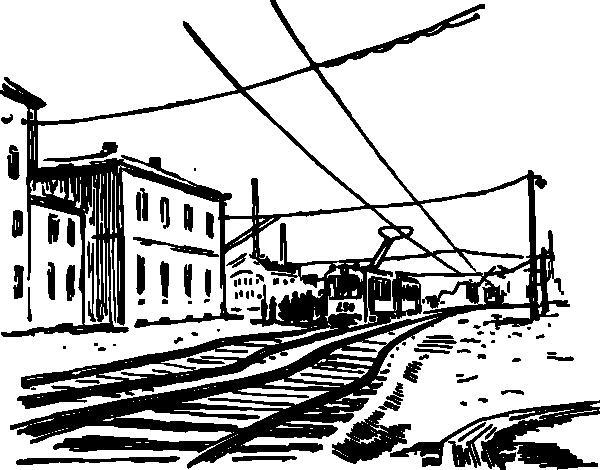train: (318, 255, 427, 323)
